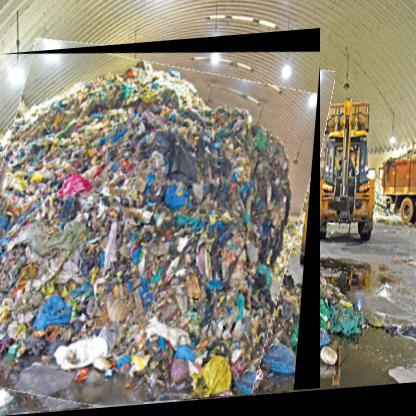Garbage: (1, 34, 322, 416)
